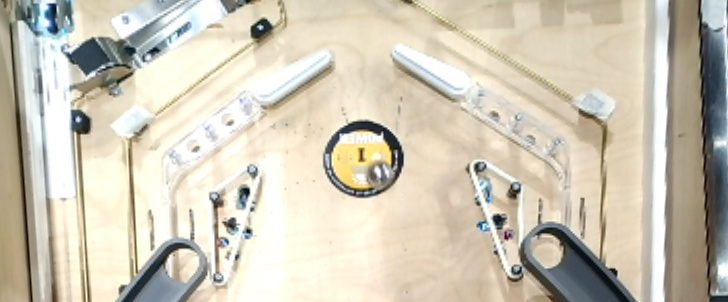ball: (366, 161, 396, 191)
flipper-left: (390, 42, 475, 105)
flipper-right: (249, 48, 334, 109)
